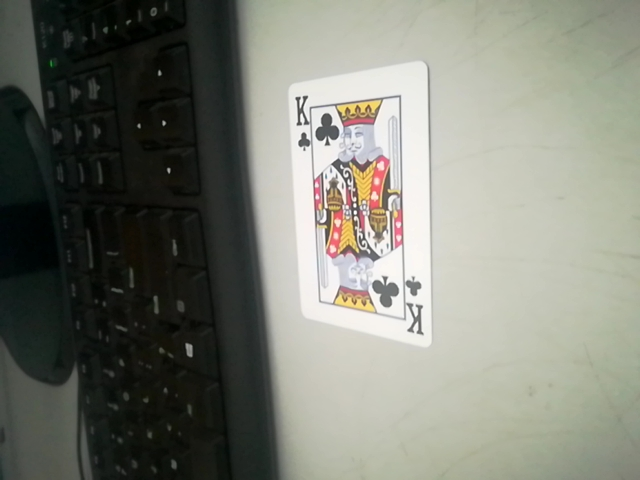mh k: (288, 61, 428, 343)
